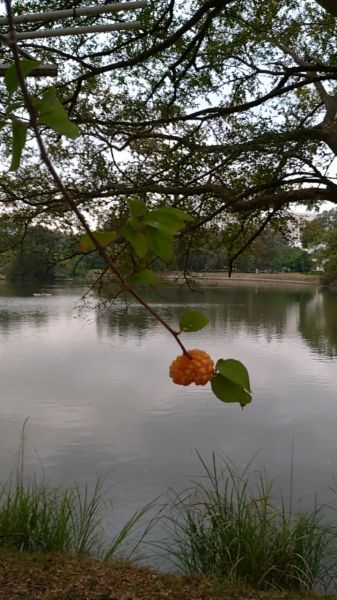eggs: (163, 344, 220, 391)
